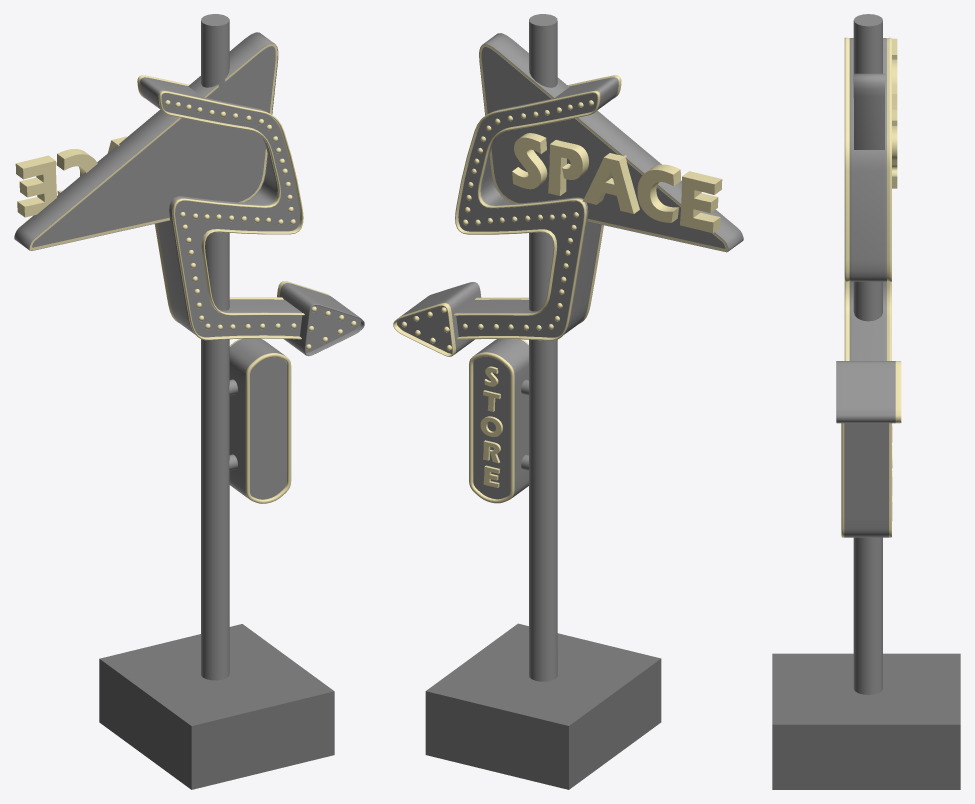
File: Sign_Model.fbx
3 views of the same model, side by side, from view 1: azimuth 30°, elevation 25°; view 2: azimuth 150°, elevation 25°; view 3: azimuth 270°, elevation 25° (orthographic). The views are drawn at different scales.
Visible parts, largest first — view 1: Box138, Box135, Box132, Cylinder006, Box133, Object044, Object014, TextPlus001, Object046, Object043; view 2: Box138, Box132, Box135, Cylinder006, TextPlus001, Box133, Object044, Object014, Object046, TextPlus004, Object043, Object045; view 3: Box138, Box132, Cylinder006, Box133, Object014, Object044, Box135, TextPlus001, Object046, Object045.
Part boxes in pixels (x1,y1,x2,y2): Box138: [99, 624, 334, 789]; Box135: [14, 32, 278, 250]; Box132: [140, 77, 302, 337]; Cylinder006: [201, 14, 229, 680]; Box133: [229, 338, 286, 499]; Object044: [137, 75, 304, 340]; Object014: [279, 283, 364, 356]; TextPlus001: [15, 136, 126, 217]; Object046: [229, 338, 291, 503]; Object043: [29, 43, 277, 250]; Box138: [425, 623, 661, 789]; Box132: [456, 77, 618, 337]; Box135: [479, 33, 743, 252]; Cylinder006: [529, 14, 557, 681]; TextPlus001: [512, 133, 722, 233]; Box133: [473, 339, 528, 499]; Object044: [454, 75, 621, 340]; Object014: [397, 282, 481, 353]; Object046: [469, 339, 528, 503]; TextPlus004: [480, 366, 502, 487]; Object043: [479, 44, 728, 251]; Object045: [393, 303, 455, 356]; Box138: [772, 653, 960, 789]; Box132: [849, 38, 886, 360]; Cylinder006: [853, 14, 882, 694]; Box133: [844, 423, 888, 537]; Object014: [836, 361, 895, 423]; Object044: [844, 37, 891, 360]; Box135: [854, 73, 884, 149]; TextPlus001: [892, 38, 897, 188]; Object046: [841, 423, 891, 537]; Object045: [895, 361, 901, 423].
Size of the model in its own units: 1841 by 3863 by 898.
